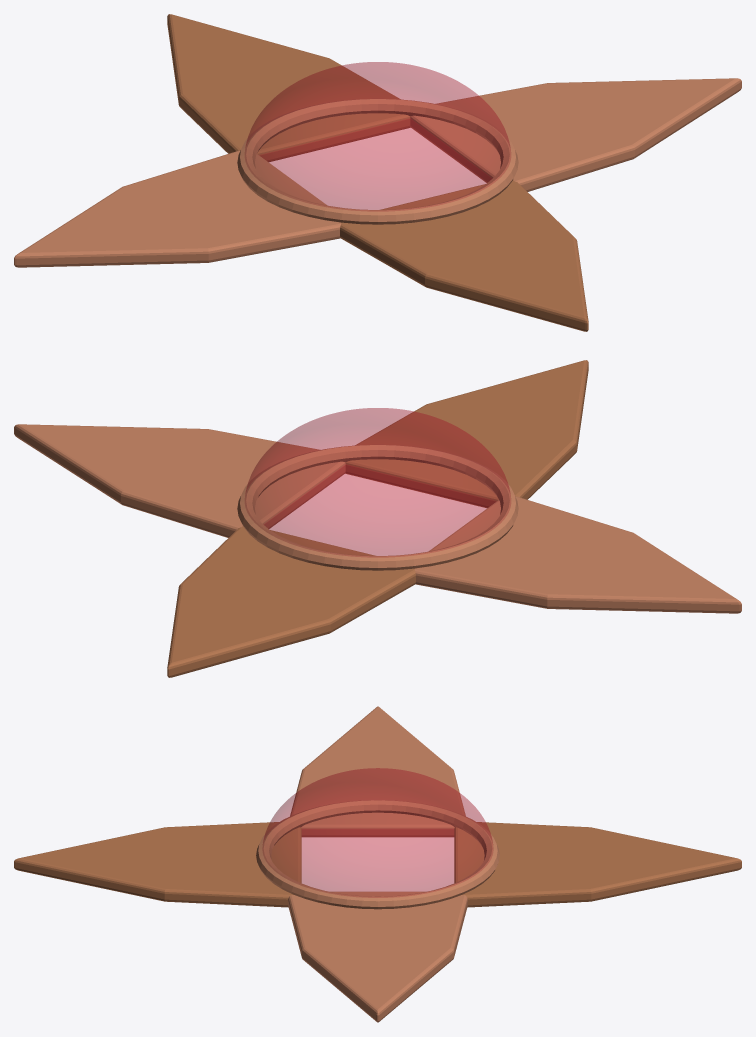
3 renders of one model, top to bottom at view 1: azimuth 30°, elevation 25°; view 2: azimuth 150°, elevation 25°; view 3: azimuth 270°, elevation 25°, orthographic. The views are drawn at different scales.
Parts seen in each view (by area): view 1: TI019 / nine-carat ruby / rounded unfaceted cabochon, TI019 / pointed brooch petal.001, TI019 / pointed brooch petal.003, TI019 / pointed brooch petal.002, TI019 / pointed brooch petal, TI019 / red gold cabochon seat; view 2: TI019 / nine-carat ruby / rounded unfaceted cabochon, TI019 / pointed brooch petal.001, TI019 / pointed brooch petal.003, TI019 / pointed brooch petal, TI019 / pointed brooch petal.002, TI019 / red gold cabochon seat; view 3: TI019 / nine-carat ruby / rounded unfaceted cabochon, TI019 / pointed brooch petal, TI019 / pointed brooch petal.002, TI019 / pointed brooch petal.003, TI019 / pointed brooch petal.001, TI019 / red gold cabochon seat.
Part boxes in pixels (<box>): TI019 / nine-carat ruby / rounded unfaceted cabochon: <box>245,62,510,211</box>; TI019 / pointed brooch petal.001: <box>14,150,341,267</box>; TI019 / pointed brooch petal.003: <box>410,78,741,191</box>; TI019 / pointed brooch petal.002: <box>340,180,588,331</box>; TI019 / pointed brooch petal: <box>167,14,410,161</box>; TI019 / red gold cabochon seat: <box>237,98,518,224</box>; TI019 / nine-carat ruby / rounded unfaceted cabochon: <box>245,408,510,557</box>; TI019 / pointed brooch petal.001: <box>414,496,741,613</box>; TI019 / pointed brooch petal.003: <box>14,424,345,537</box>; TI019 / pointed brooch petal: <box>167,526,415,677</box>; TI019 / pointed brooch petal.002: <box>345,360,588,507</box>; TI019 / red gold cabochon seat: <box>237,444,518,570</box>; TI019 / nine-carat ruby / rounded unfaceted cabochon: <box>262,768,493,897</box>; TI019 / pointed brooch petal: <box>454,822,741,907</box>; TI019 / pointed brooch petal.002: <box>14,822,301,907</box>; TI019 / pointed brooch petal.003: <box>288,891,467,1022</box>; TI019 / pointed brooch petal.001: <box>290,706,465,837</box>; TI019 / red gold cabochon seat: <box>256,800,499,909</box>.
Bounding box in the file's own units: 2.39 × 0.315 × 2.39.
